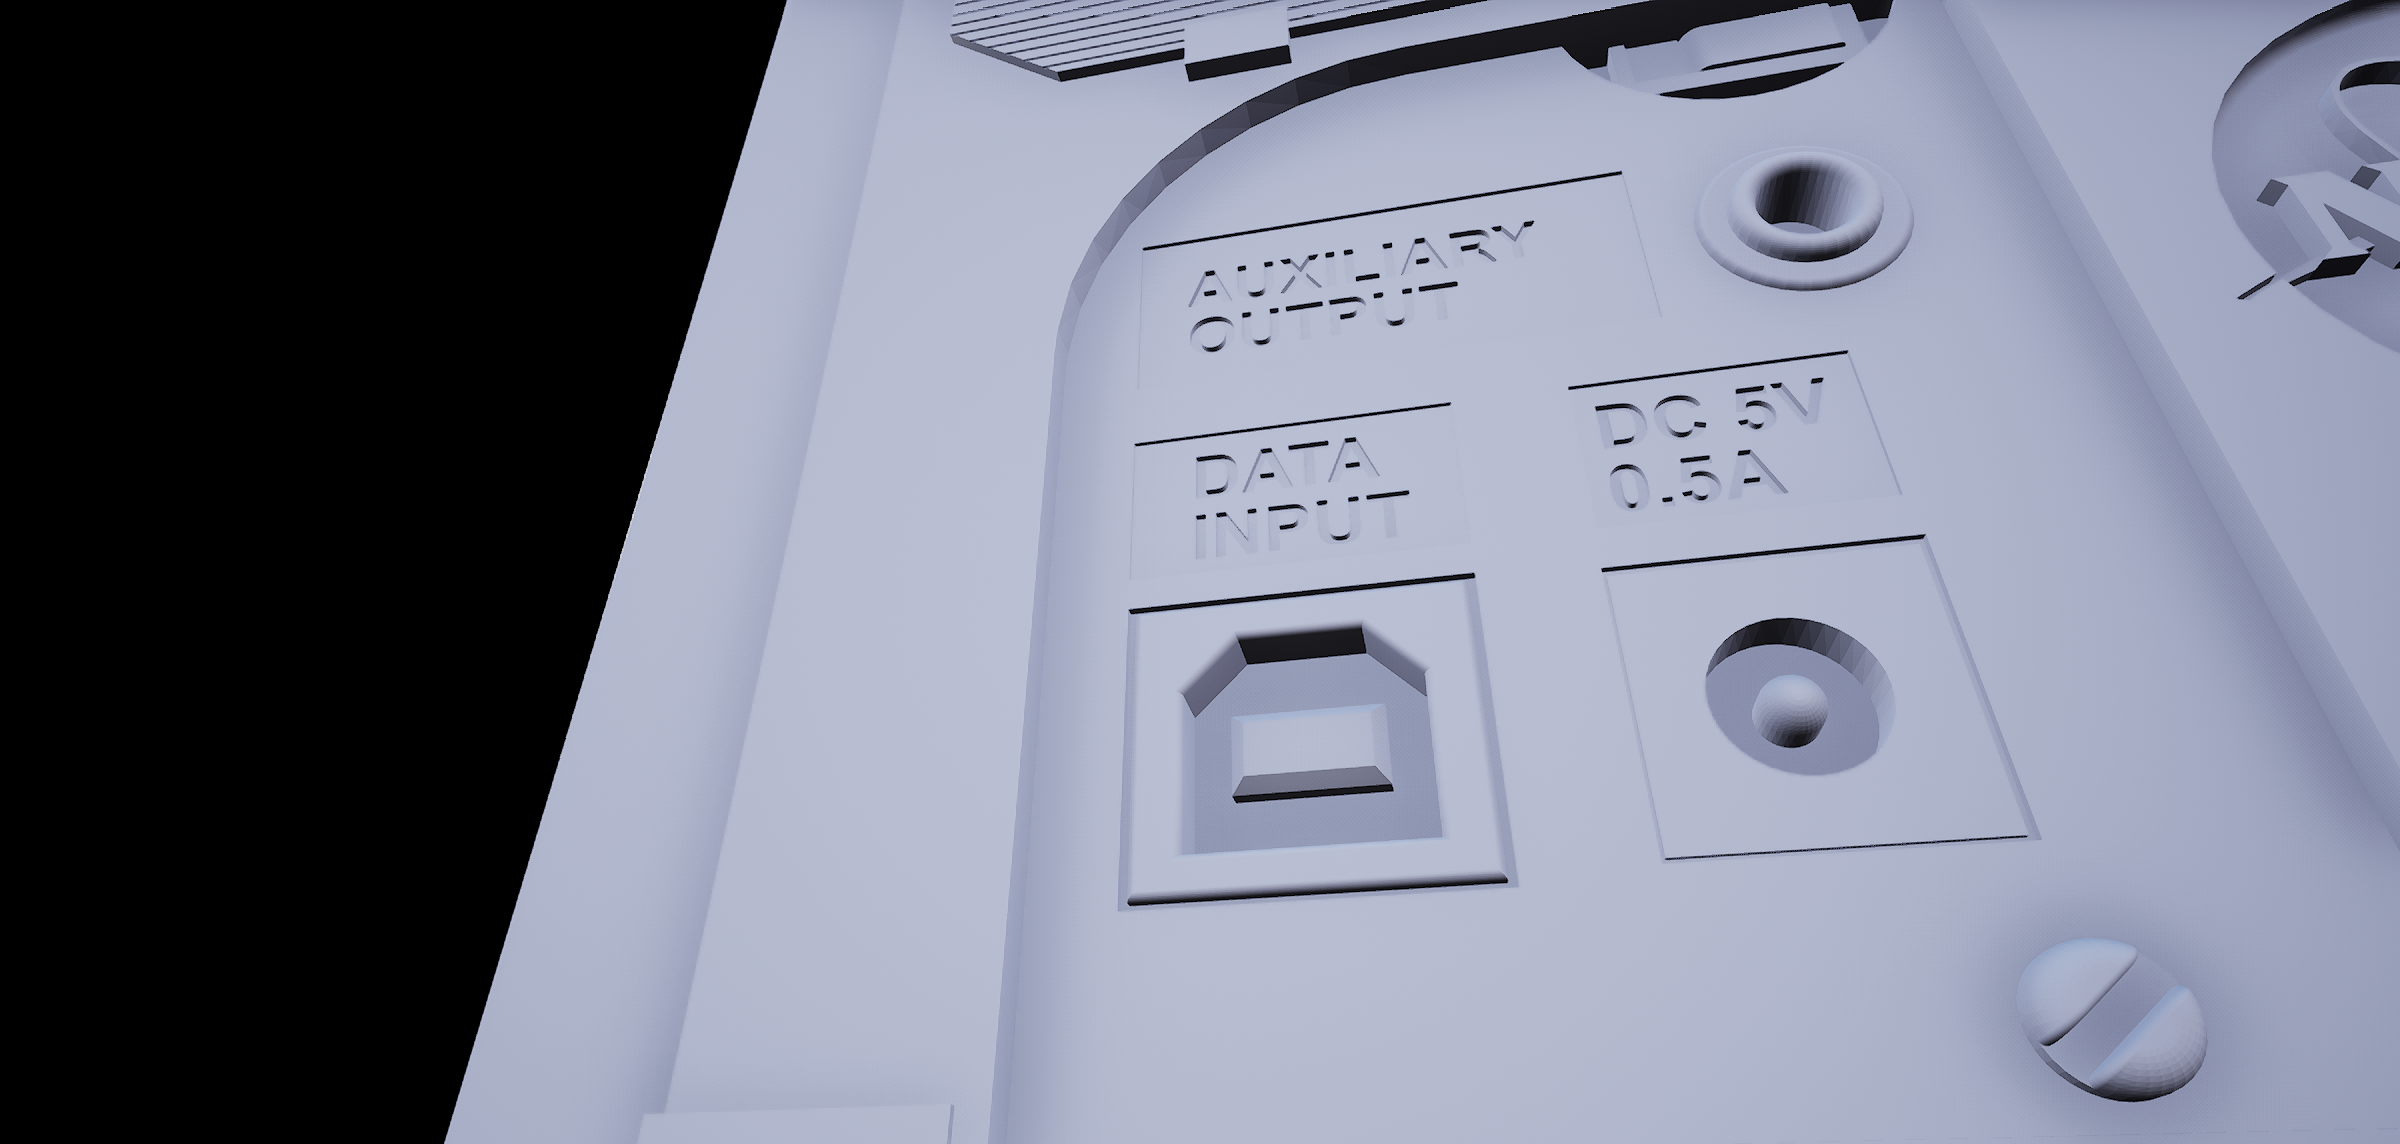aux: (1674, 129, 1952, 317)
dc: (1681, 608, 1899, 799)
usb: (1179, 626, 1459, 851)
